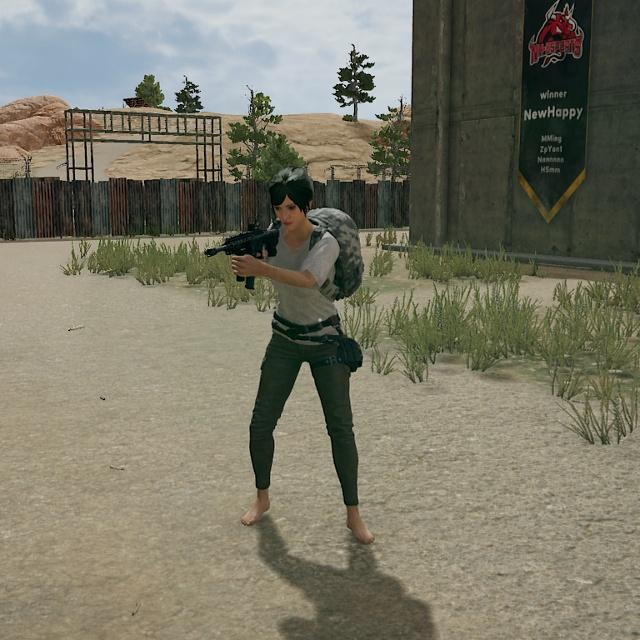head: (265, 161, 316, 237)
people: (223, 154, 387, 555)
